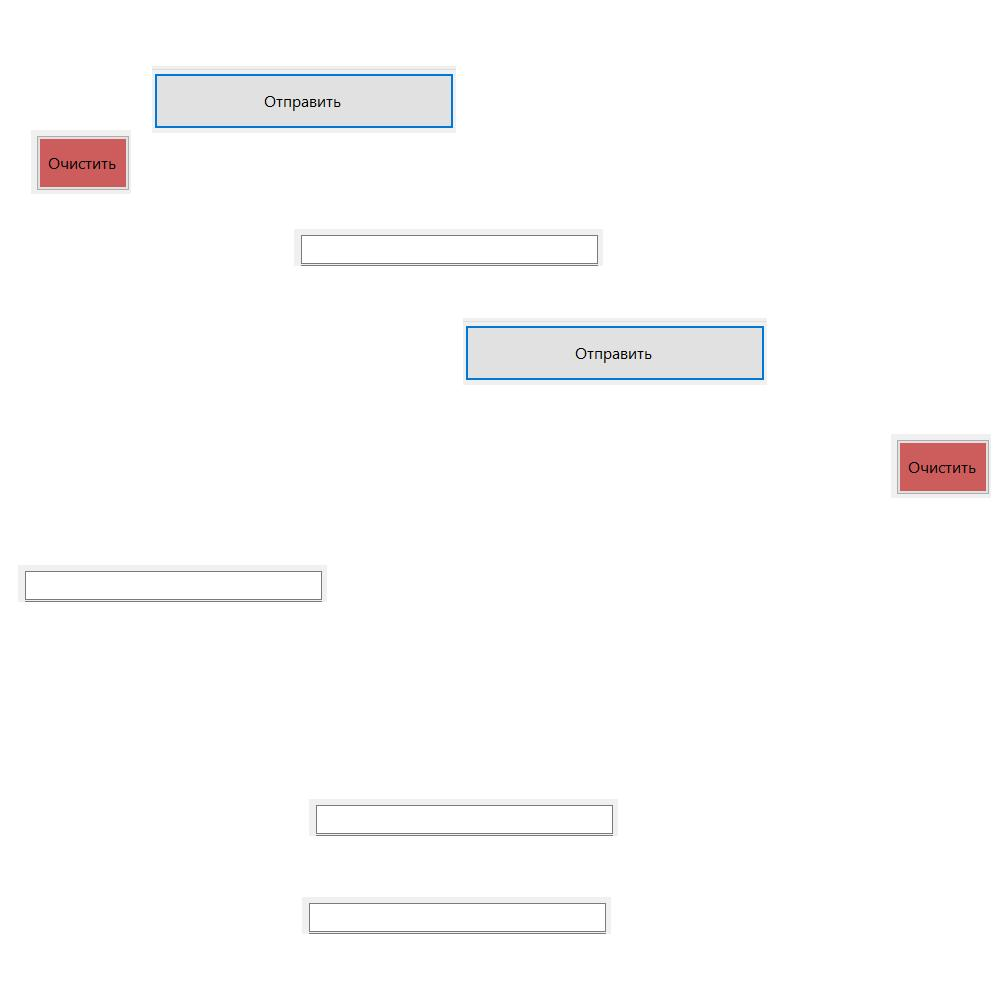Button: (152, 66, 456, 133), (463, 318, 767, 385), (891, 434, 991, 498), (31, 130, 131, 194)
EditText-: (294, 229, 603, 266), (309, 799, 618, 836), (302, 897, 611, 934), (18, 565, 327, 602)
